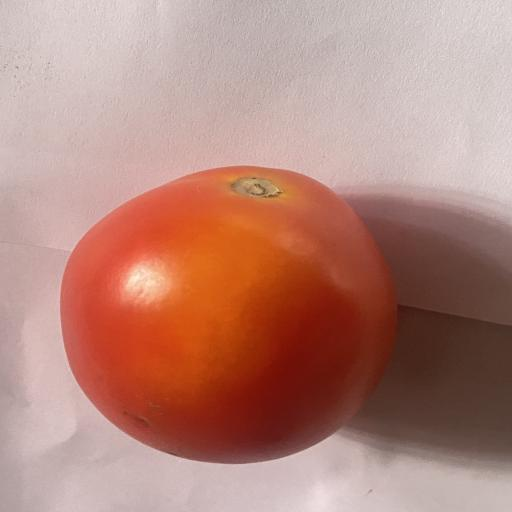ripe: (60, 166, 397, 463)
